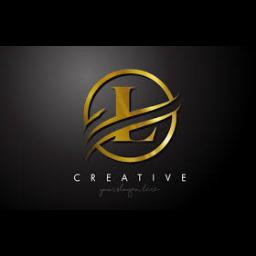l: (110, 83, 158, 145)
